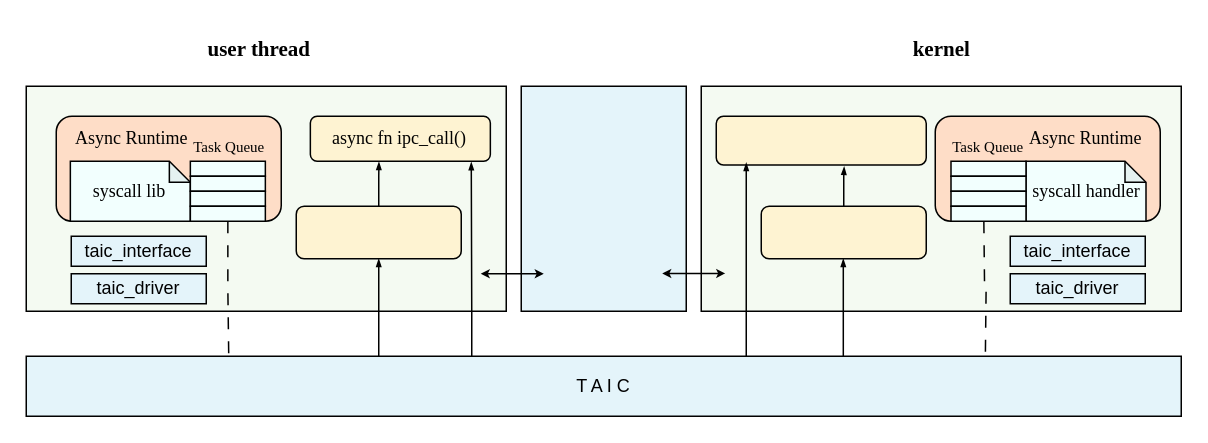
Image size: 1208x443. Some labels were removed from this diagram. Here are the shapes that lost their labels. From the top down, the box of each, then its label:
(715, 115, 926, 165): async fn req_ dispatcher ()
(520, 85, 686, 311): IPC Buffer Shared Memory
(295, 205, 461, 259): async fn reply_dispatcher()
(760, 205, 926, 259): async fn reply_dispatcher( )
